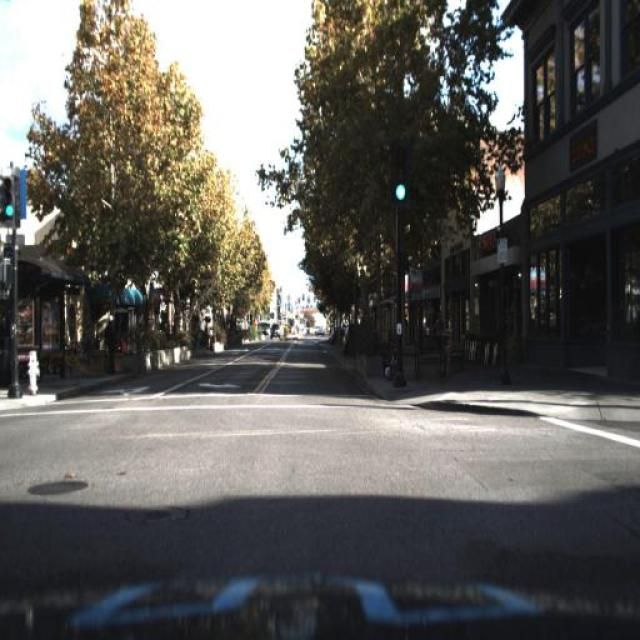trafficLight: (101, 310, 123, 376), (429, 304, 446, 360), (435, 304, 451, 358), (101, 310, 113, 376)
trafficLight-Green: (390, 145, 410, 203)
trafficLight-GreenLeft: (390, 147, 410, 211)
